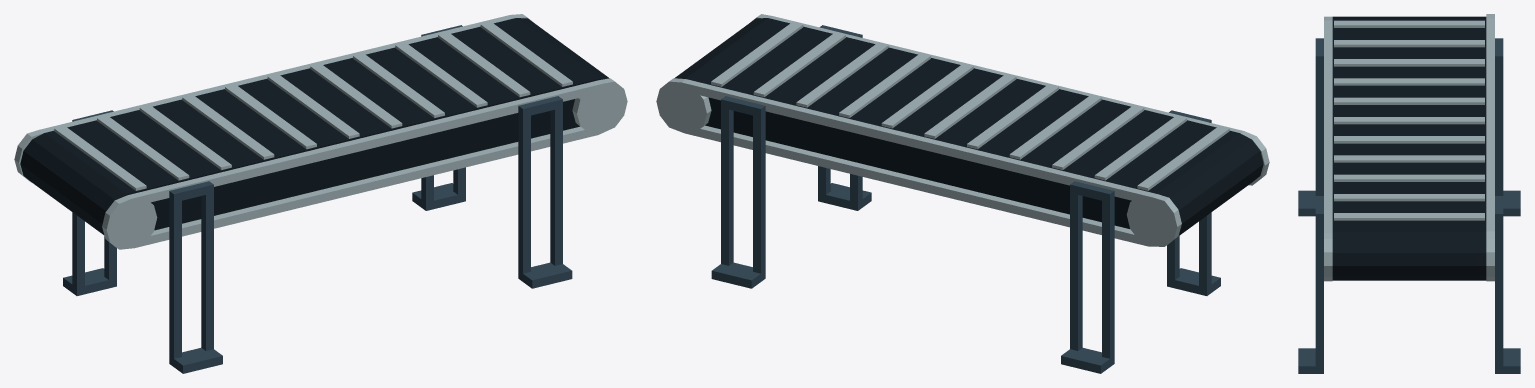
File: Conveyer Belt (old).obj
3 renders of one model, left to right at view 1: azimuth 30°, elevation 25°; view 2: azimuth 150°, elevation 25°; view 3: azimuth 270°, elevation 25°, orthographic. The views are drawn at different scales.
Visible parts, largest first — view 1: group1751849987, group1395806188, group600698695, group1439868329, group1875178703, group1407714466, group955717307, group1864052554; view 2: group1751849987, group1407714466, group600698695, group1864052554, group955717307, group1875178703, group1395806188, group1439868329; view 3: group1751849987, group600698695, group1407714466, group1395806188, group1439868329, group1864052554, group1875178703, group955717307.
Boxes of the visible parts, x1=… form: group1751849987: x1=20, y1=18, x2=609, y2=234; group1395806188: x1=102, y1=78, x2=627, y2=249; group600698695: x1=54, y1=22, x2=572, y2=190; group1439868329: x1=518, y1=96, x2=572, y2=288; group1875178703: x1=169, y1=181, x2=222, y2=373; group1407714466: x1=14, y1=14, x2=532, y2=182; group955717307: x1=63, y1=110, x2=116, y2=295; group1864052554: x1=412, y1=25, x2=465, y2=210; group1751849987: x1=674, y1=18, x2=1263, y2=235; group1407714466: x1=656, y1=78, x2=1181, y2=246; group600698695: x1=711, y1=22, x2=1229, y2=190; group1864052554: x1=711, y1=96, x2=765, y2=288; group955717307: x1=1061, y1=181, x2=1114, y2=373; group1875178703: x1=1167, y1=110, x2=1220, y2=295; group1395806188: x1=751, y1=14, x2=1269, y2=185; group1439868329: x1=818, y1=25, x2=871, y2=210; group1751849987: x1=1332, y1=16, x2=1486, y2=280; group600698695: x1=1334, y1=20, x2=1484, y2=220; group1407714466: x1=1486, y1=14, x2=1494, y2=281; group1395806188: x1=1324, y1=16, x2=1332, y2=281; group1439868329: x1=1298, y1=196, x2=1323, y2=373; group1864052554: x1=1495, y1=196, x2=1520, y2=373; group1875178703: x1=1298, y1=38, x2=1323, y2=216; group955717307: x1=1495, y1=38, x2=1520, y2=216.
Bounding box in the file's own units: 1.96 × 0.64 × 0.78.
